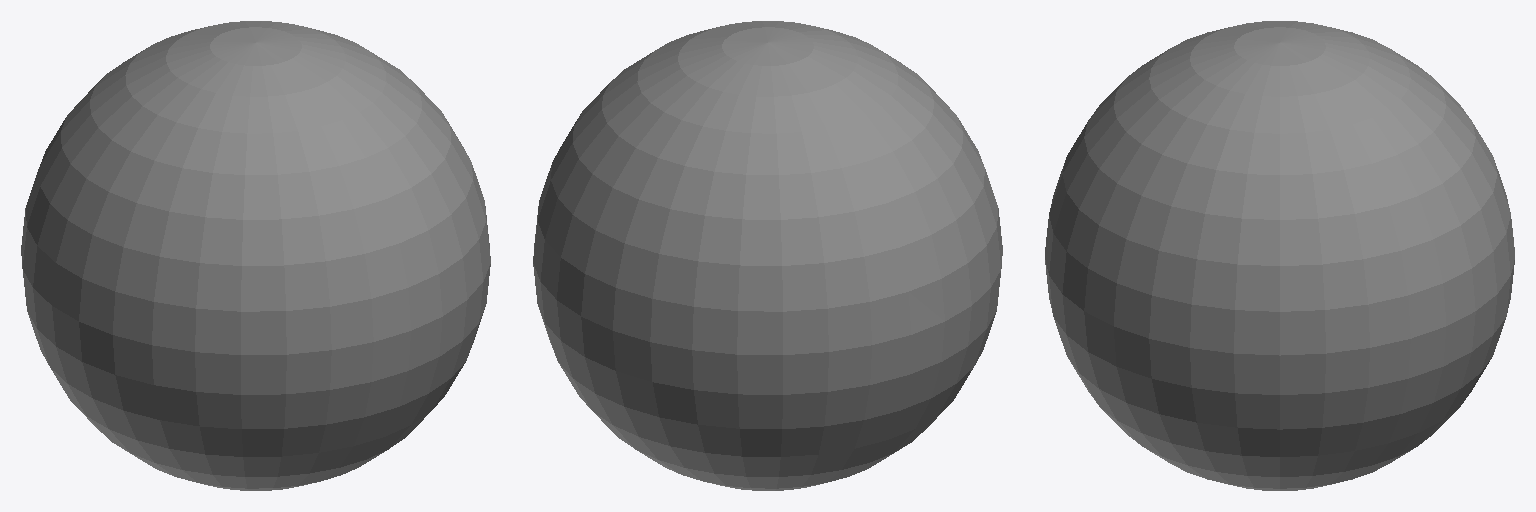
File: greenball.obj
3 renders of one model, left to right at view 1: azimuth 30°, elevation 25°; view 2: azimuth 150°, elevation 25°; view 3: azimuth 270°, elevation 25°, orthographic.
Visible parts, largest first — view 1: Sphere001; view 2: Sphere001; view 3: Sphere001.
Boxes of the visible parts, box(x1,y1,x2,y2) form: Sphere001: box(21, 21, 490, 490); Sphere001: box(533, 21, 1002, 490); Sphere001: box(1045, 21, 1514, 490).
Bounding box in the file's own units: 69.99 × 69.99 × 69.99.